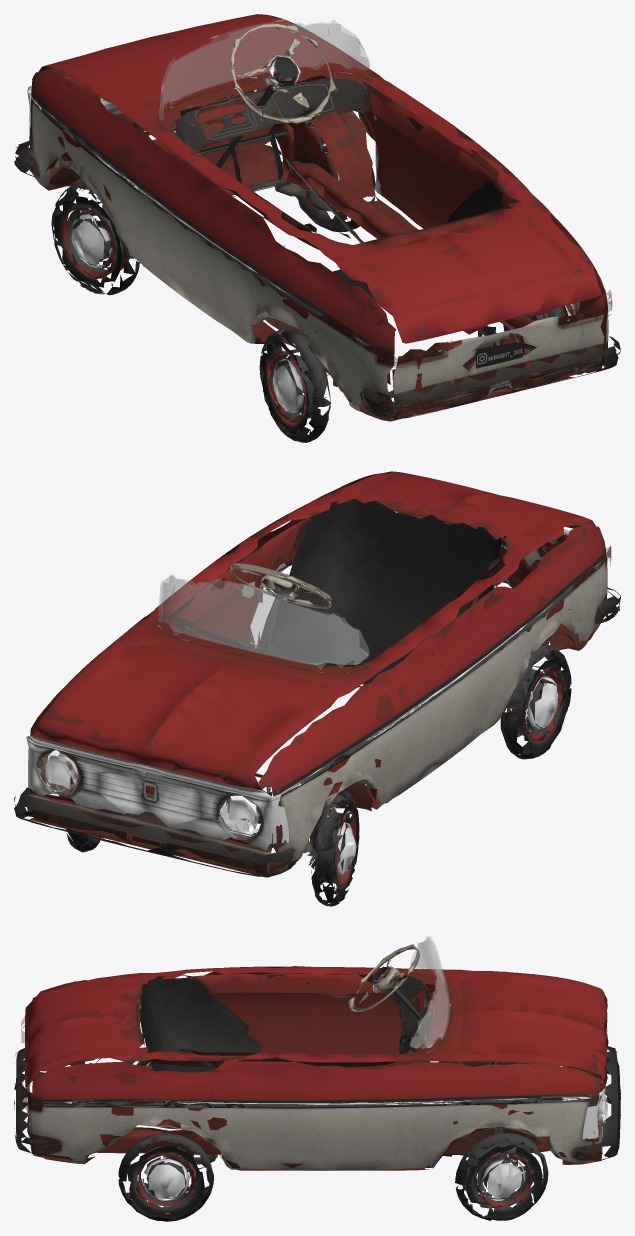
Rendered from toy-car77.glb.
3 renders of one model, top to bottom at view 1: azimuth 30°, elevation 25°; view 2: azimuth 150°, elevation 25°; view 3: azimuth 270°, elevation 25°, orthographic. The views are drawn at different scales.
Parts seen in each view (by area): view 1: MOSKVICH _ID_1 Corpus _0, MOSKVICH _ID_4 Wheels and small Parts _0 (×4), MOSKVICH _ID_2 Plastic _0, MOSKVICH _ID_3 Glass _0; view 2: MOSKVICH _ID_1 Corpus _0, MOSKVICH _ID_2 Plastic _0, MOSKVICH _ID_3 Glass _0, MOSKVICH _ID_4 Wheels and small Parts _0 (×4); view 3: MOSKVICH _ID_1 Corpus _0, MOSKVICH _ID_2 Plastic _0, MOSKVICH _ID_4 Wheels and small Parts _0 (×3), MOSKVICH _ID_3 Glass _0.
Part boxes in pixels (left/top/right/bottom): MOSKVICH _ID_1 Corpus _0: left=27, top=14, right=608, bottom=421; MOSKVICH _ID_4 Wheels and small Parts _0 (×4): left=51, top=58, right=568, bottom=442; MOSKVICH _ID_2 Plastic _0: left=14, top=24, right=620, bottom=419; MOSKVICH _ID_3 Glass _0: left=159, top=18, right=612, bottom=367; MOSKVICH _ID_1 Corpus _0: left=26, top=471, right=611, bottom=877; MOSKVICH _ID_2 Plastic _0: left=14, top=498, right=620, bottom=876; MOSKVICH _ID_3 Glass _0: left=37, top=529, right=611, bottom=839; MOSKVICH _ID_4 Wheels and small Parts _0 (×4): left=36, top=590, right=571, bottom=906; MOSKVICH _ID_1 Corpus _0: left=22, top=966, right=608, bottom=1170; MOSKVICH _ID_2 Plastic _0: left=14, top=944, right=620, bottom=1160; MOSKVICH _ID_4 Wheels and small Parts _0 (×3): left=118, top=966, right=602, bottom=1221; MOSKVICH _ID_3 Glass _0: left=21, top=936, right=607, bottom=1125.
Size of the model in its own units: 82.24 by 75.65 by 188.
Materials: 4 (4 with a texture image).
